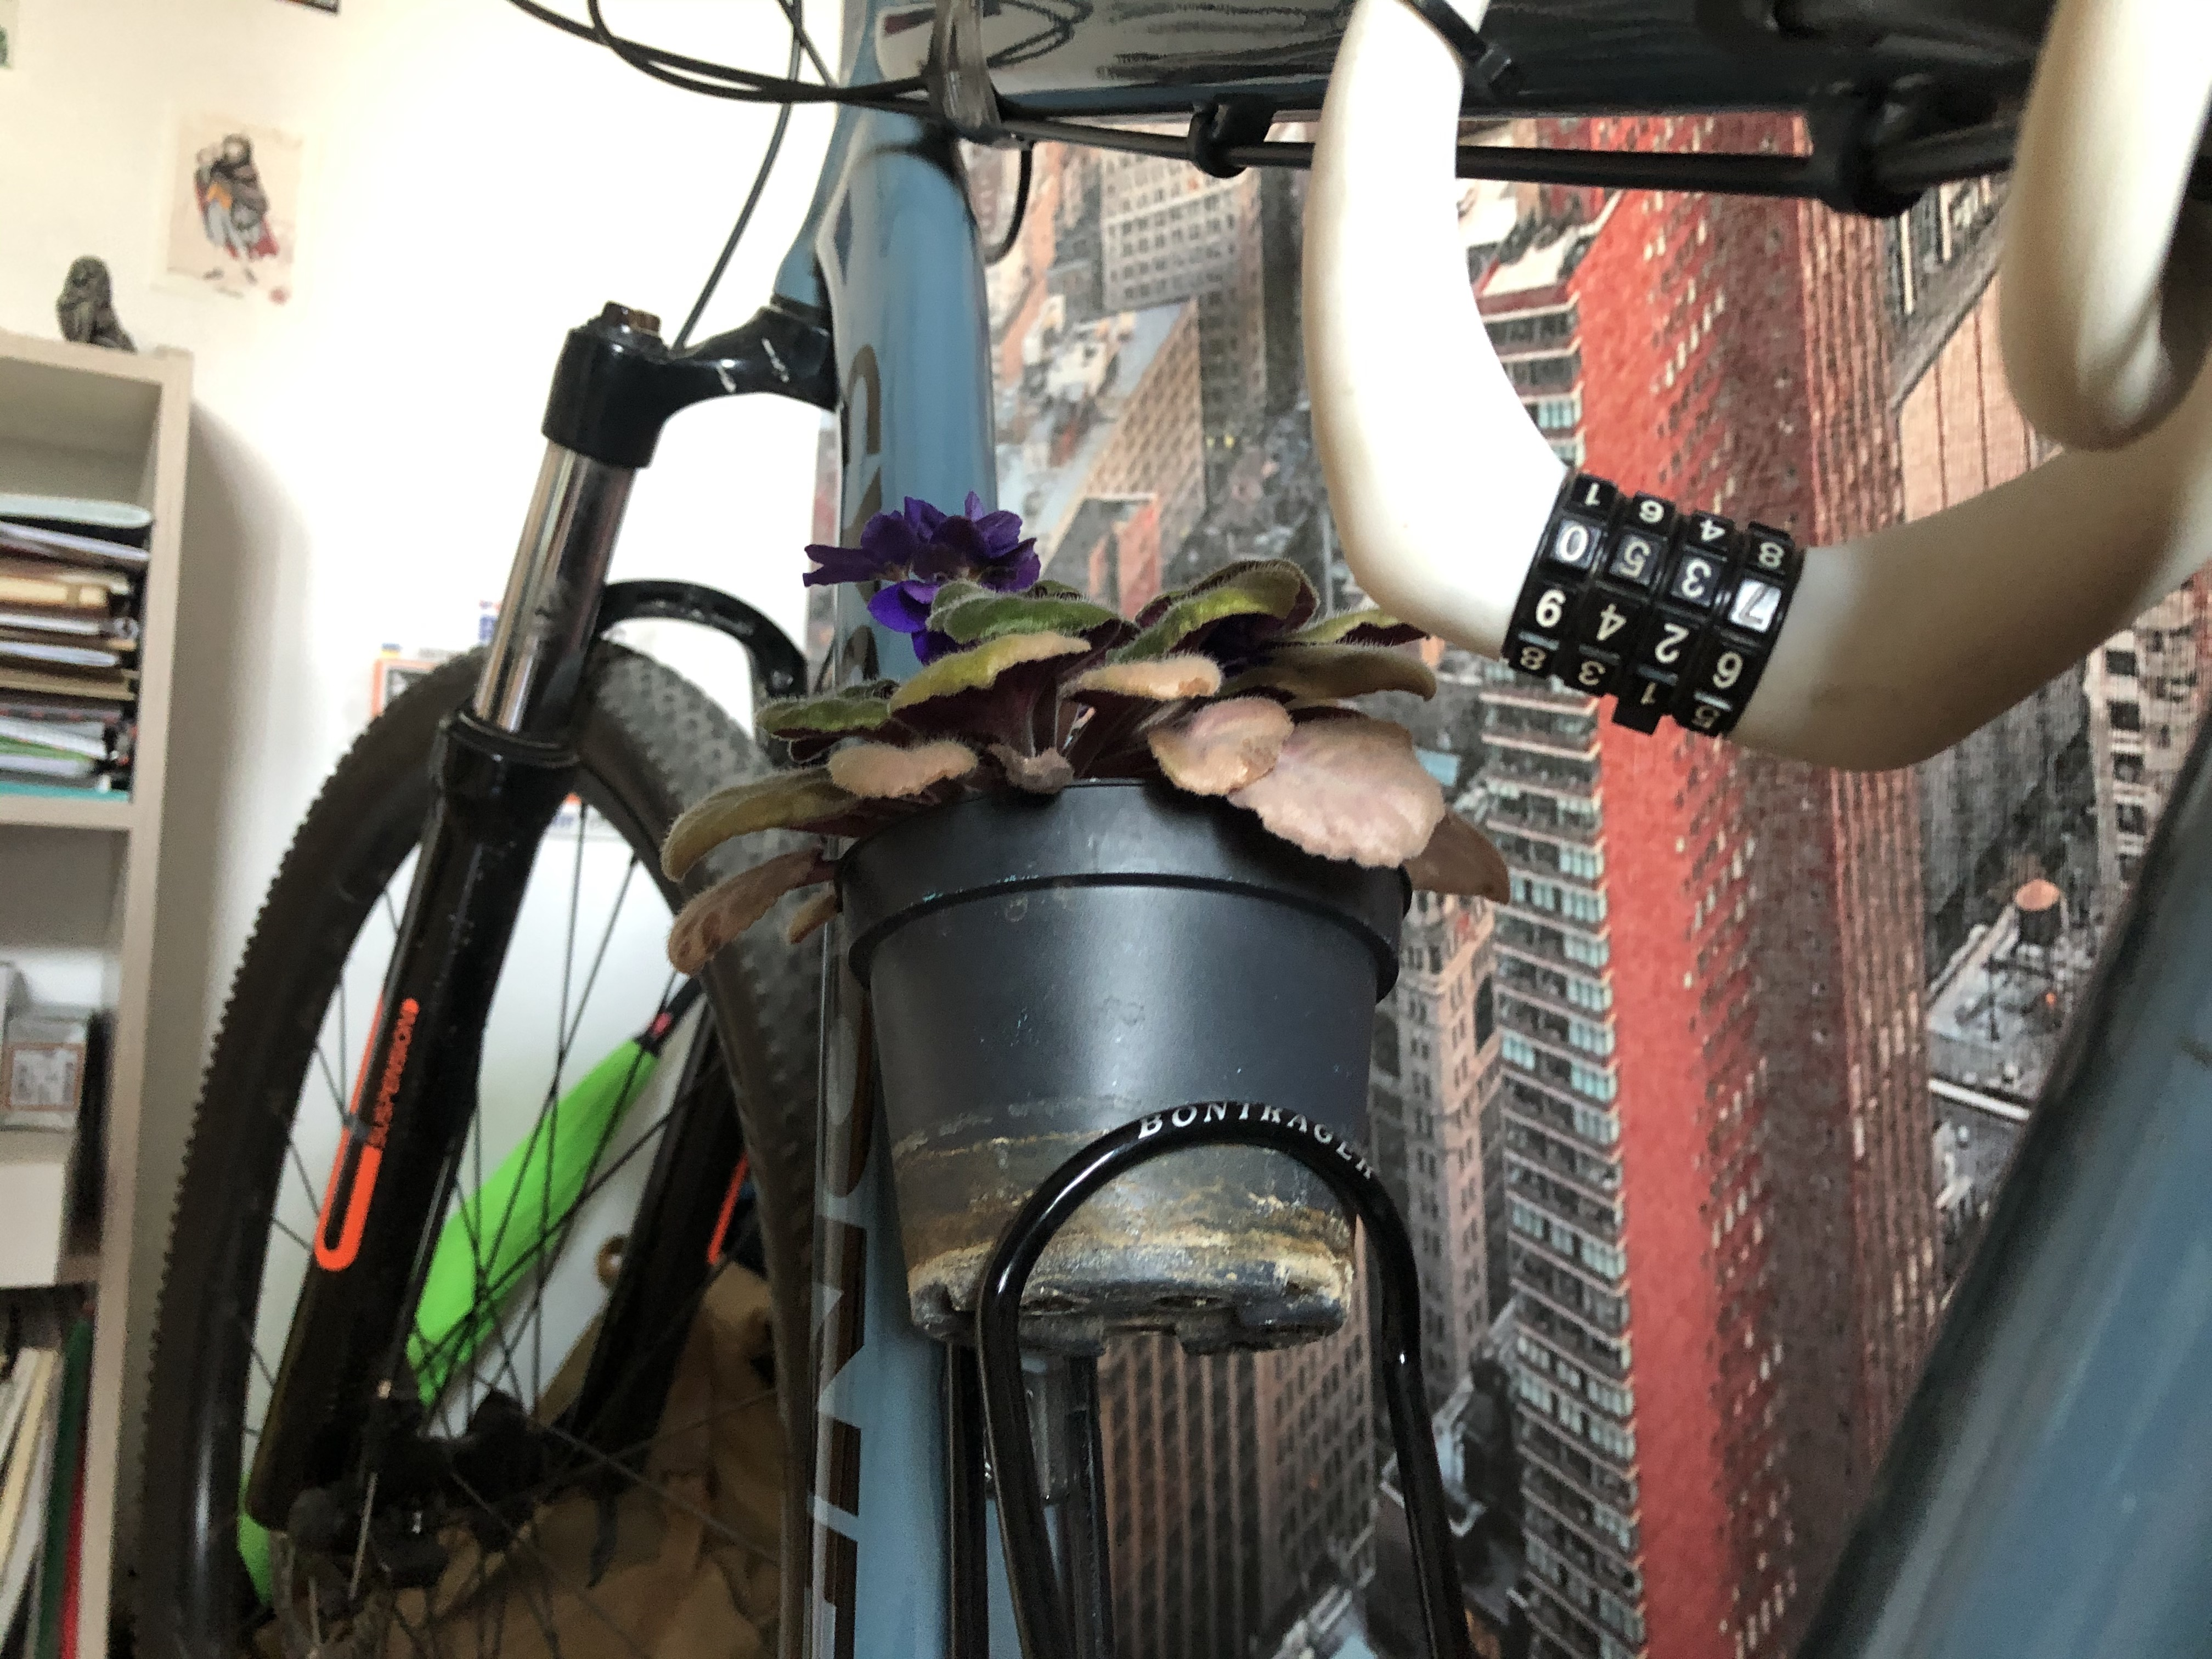ignore: (636, 498, 1527, 992)
